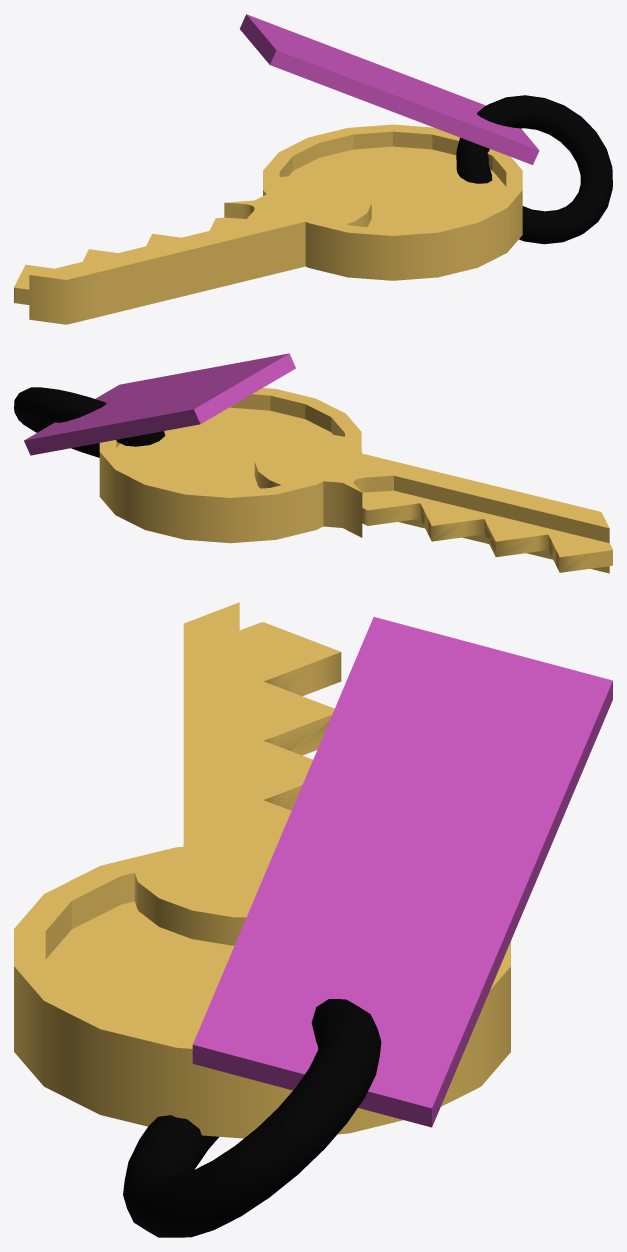
The model's file is ROOM KEYS - PINK.fbx.
The picture shows the model from 3 angles, top to bottom: view 1: azimuth 30°, elevation 25°; view 2: azimuth 150°, elevation 25°; view 3: azimuth 270°, elevation 25°; orthographic projection. The views are drawn at different scales.
Visible parts, largest first — view 1: Cylinder001, Box001, Box002, Torus001, Cylinder002; view 2: Cylinder001, Box001, Box002, Cylinder002, Torus001; view 3: Box002, Cylinder001, Box001, Torus001, Cylinder002.
Boxes of the visible parts, x1,y1,x2,y2 form: Cylinder001: (263,124,522,280); Box001: (14,190,317,324); Box002: (240,14,539,164); Torus001: (456,95,612,244); Cylinder002: (270,175,371,226); Cylinder001: (99,388,361,543); Box001: (307,449,612,573); Box002: (24,353,295,455); Cylinder002: (254,434,355,488); Torus001: (14,387,165,457); Box002: (192,617,612,1127); Cylinder001: (14,841,510,1138); Box001: (183,602,341,860); Torus001: (123,999,381,1237); Cylinder002: (134,848,274,945).
Bounding box in the file's own units: 10.31 × 3.41 × 4.75.
